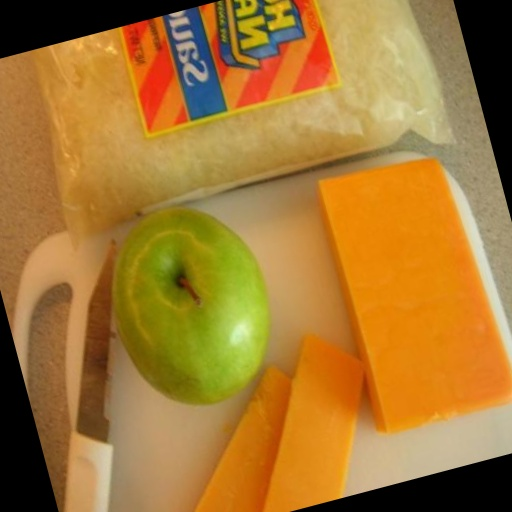fruit: (92, 114, 449, 512)
